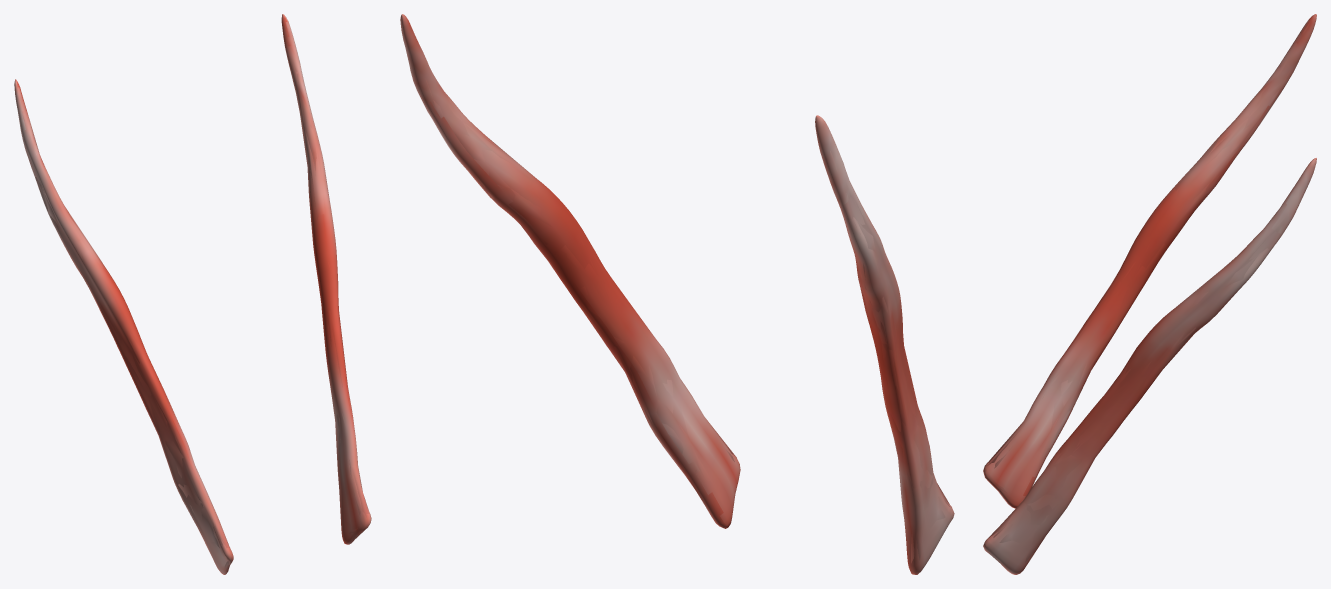
File: Zygomaticus.fbx
3 renders of one model, left to right at view 1: azimuth 30°, elevation 25°; view 2: azimuth 150°, elevation 25°; view 3: azimuth 270°, elevation 25°, orthographic. The views are drawn at different scales.
Visible parts, largest first — view 1: Zygomaticus, Zygomaticus low; view 2: Zygomaticus, Zygomaticus low; view 3: Zygomaticus, Zygomaticus low.
Boxes of the visible parts, x1,y1,x2,y2 form: Zygomaticus: (14, 14, 371, 574); Zygomaticus low: (18, 23, 368, 572); Zygomaticus: (400, 14, 954, 574); Zygomaticus low: (406, 24, 949, 563); Zygomaticus: (983, 14, 1316, 574); Zygomaticus low: (986, 23, 1309, 567).
Bounding box in the file's own units: 22.42 × 31.93 × 21.19.
1 material, 1 textured.
